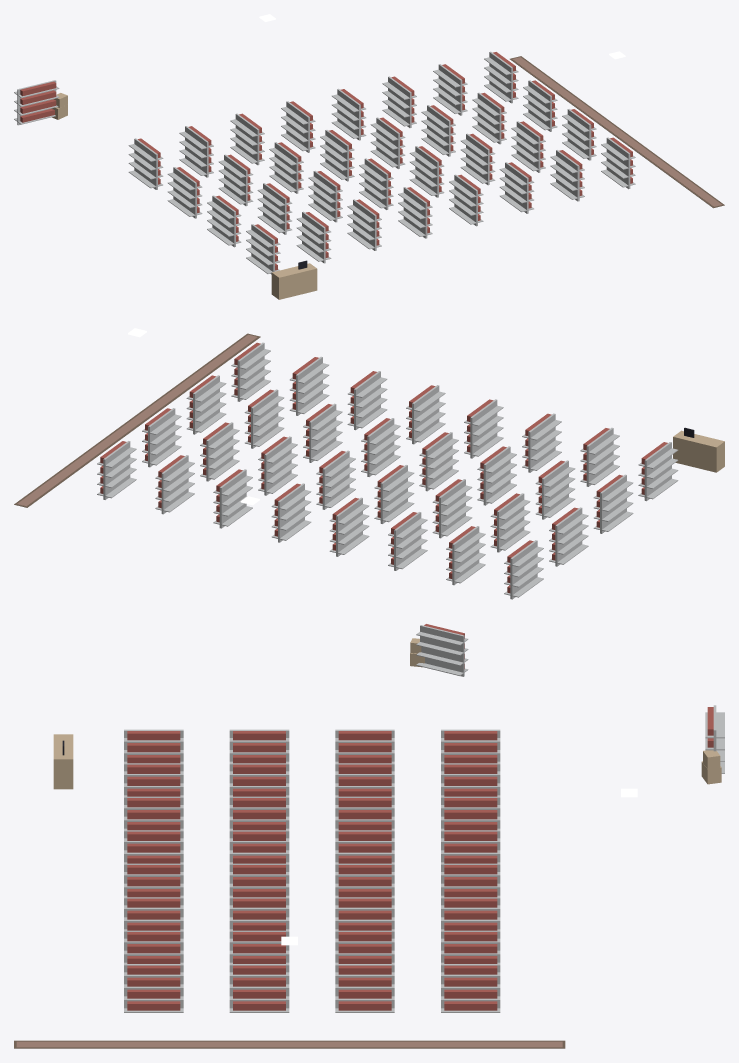
Rendered from fine-s0.glb.
3 renders of one model, top to bottom at view 1: azimuth 30°, elevation 25°; view 2: azimuth 150°, elevation 25°; view 3: azimuth 270°, elevation 25°, orthographic. The views are drawn at different scales.
Visible parts, largest first — view 1: soft-s0, shelving.000, shop-counter.000, shelf.009, shelf.025, shelf.010, shelf.026, shelf.011, shelf.000, shelf.005, shelf.017, shelf.022 (+23 smaller); view 2: soft-s0, shelving.000, shop-counter.000, shelf.030, shelf.003, shelf.021, shelf.031, shelf.009, shelf.023, shelf.001, shelf.005, shelf.007 (+23 smaller); view 3: soft-s0, shelf.030, shelf.028, shelf.029, shelf.031, shelf.002, shelf.010, shelf.018, shelf.001, shelf.003, shelf.009, shelf.011 (+24 smaller).
Part boxes in pixels (x1,y1,x2,y2): soft-s0: (510,56,724,208); shelving.000: (14,80,59,125); shop-counter.000: (271,260,317,299); shelf.009: (269,142,303,193); shelf.025: (472,92,506,144); shelf.010: (308,170,342,222); shelf.026: (511,121,545,172); shelf.011: (347,199,381,250); shelf.000: (128,138,163,189); shelf.005: (218,154,253,206); shelf.017: (370,117,405,168); shelf.022: (460,133,495,185); soft-s0: (14,333,260,507); shelving.000: (416,624,468,676); shop-counter.000: (673,427,724,472); shelf.030: (186,375,226,434); shelf.003: (638,442,678,501); shelf.021: (258,436,297,495); shelf.031: (231,342,270,401); shelf.009: (432,479,472,538); shelf.023: (347,371,387,430); shelf.001: (549,507,588,566); shelf.005: (490,493,530,552); shelf.007: (580,427,619,486); soft-s0: (14,1040,565,1048); shelf.030: (229,964,289,1012); shelf.028: (441,964,500,1012); shelf.029: (335,964,394,1012); shelf.031: (124,964,183,1012); shelf.002: (229,729,289,763); shelf.010: (229,796,289,830); shelf.018: (229,863,289,897); shelf.001: (335,729,394,763); shelf.003: (124,729,183,763); shelf.009: (335,796,394,830); shelf.011: (124,796,183,830).
Size of the model in its own units: 21.2 by 3.5 by 21.53.
